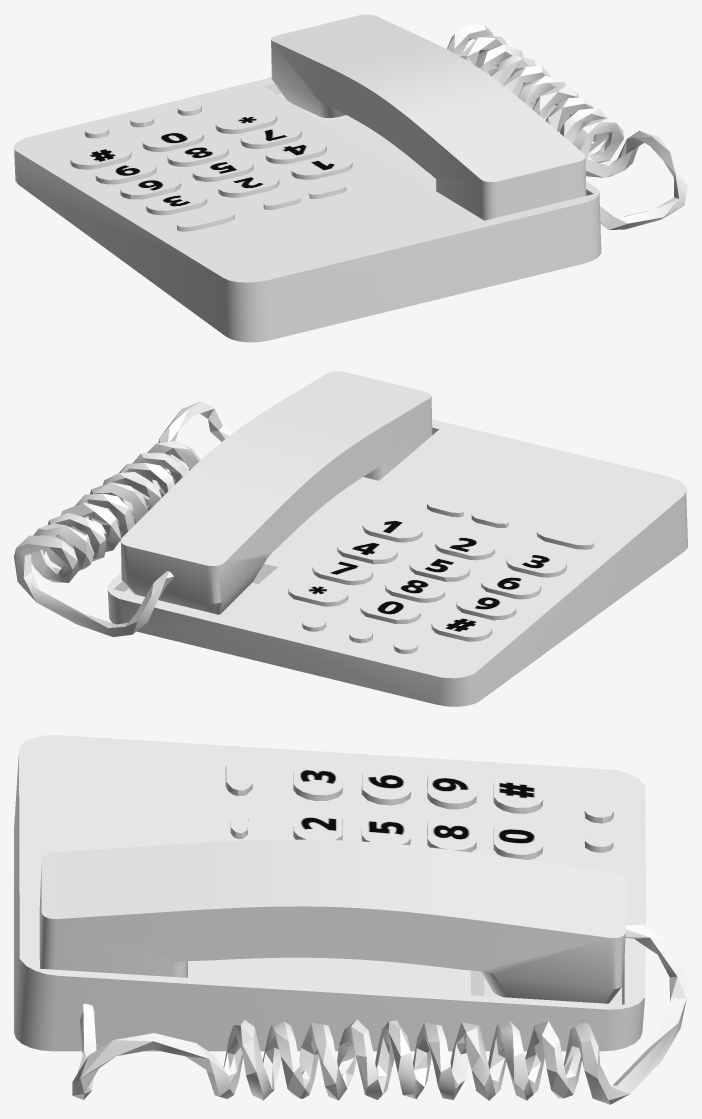
File: telephone.glb
The picture shows the model from 3 angles, top to bottom: view 1: azimuth 30°, elevation 25°; view 2: azimuth 150°, elevation 25°; view 3: azimuth 270°, elevation 25°; orthographic projection. The views are drawn at different scales.
Parts seen in each view (by area): view 1: Telephone; view 2: Telephone; view 3: Telephone.
Part boxes in pixels (bbox=[...]): Telephone: bbox=[14, 14, 687, 342]; Telephone: bbox=[14, 371, 687, 706]; Telephone: bbox=[14, 735, 687, 1104].
Size of the model in its own units: 0.1679 by 0.036 by 0.1559.
Materials: 1 (1 with a texture image).
